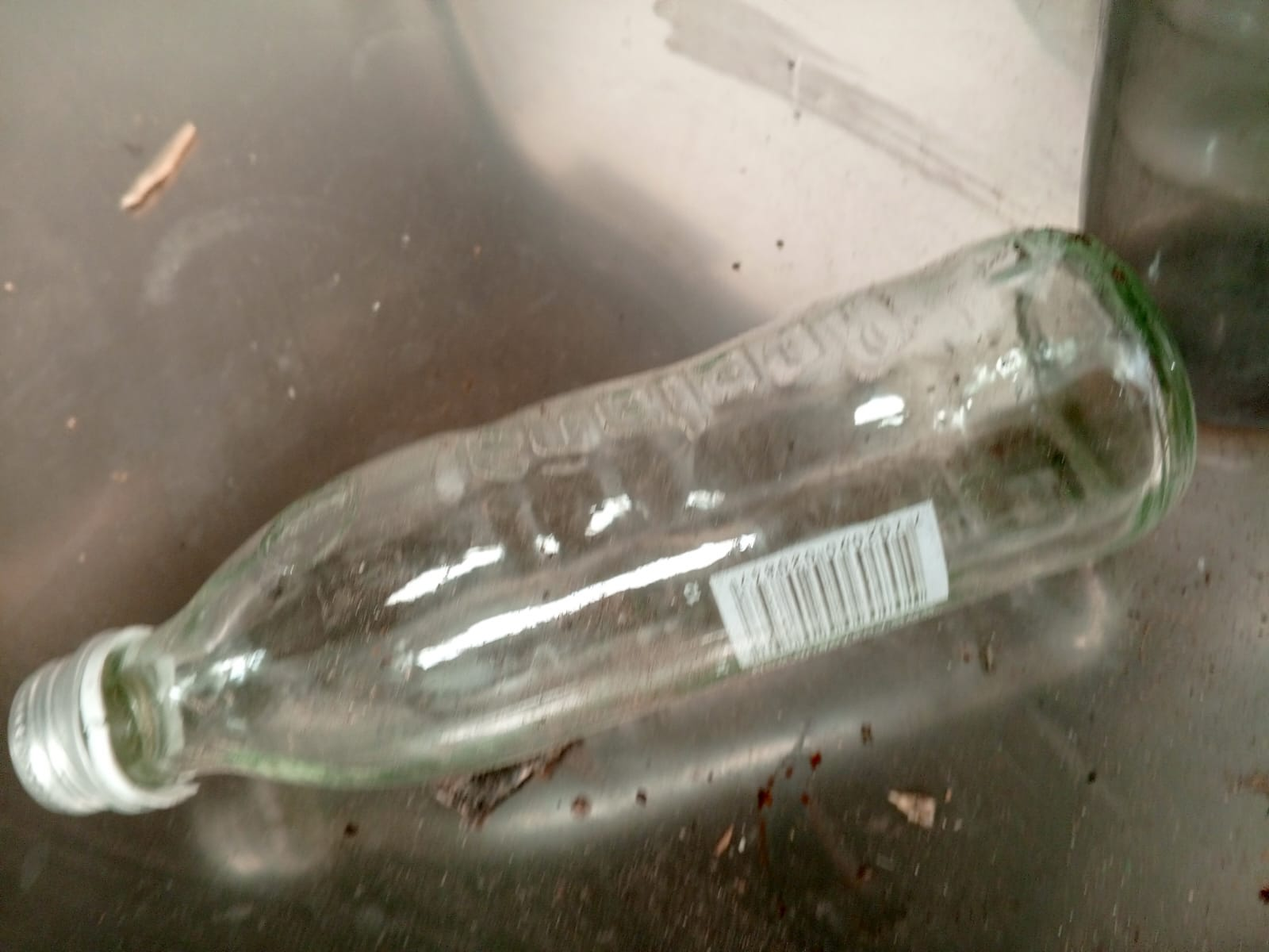Metal: (9, 624, 157, 818)
Vidrio: (158, 227, 1203, 794)
